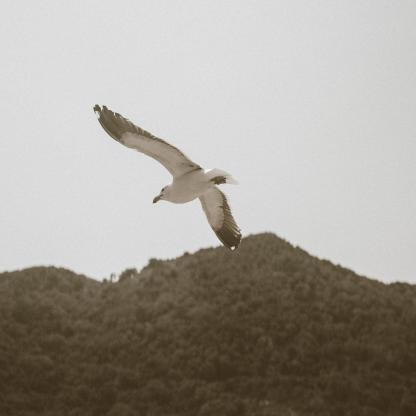bird: (92, 104, 242, 252)
